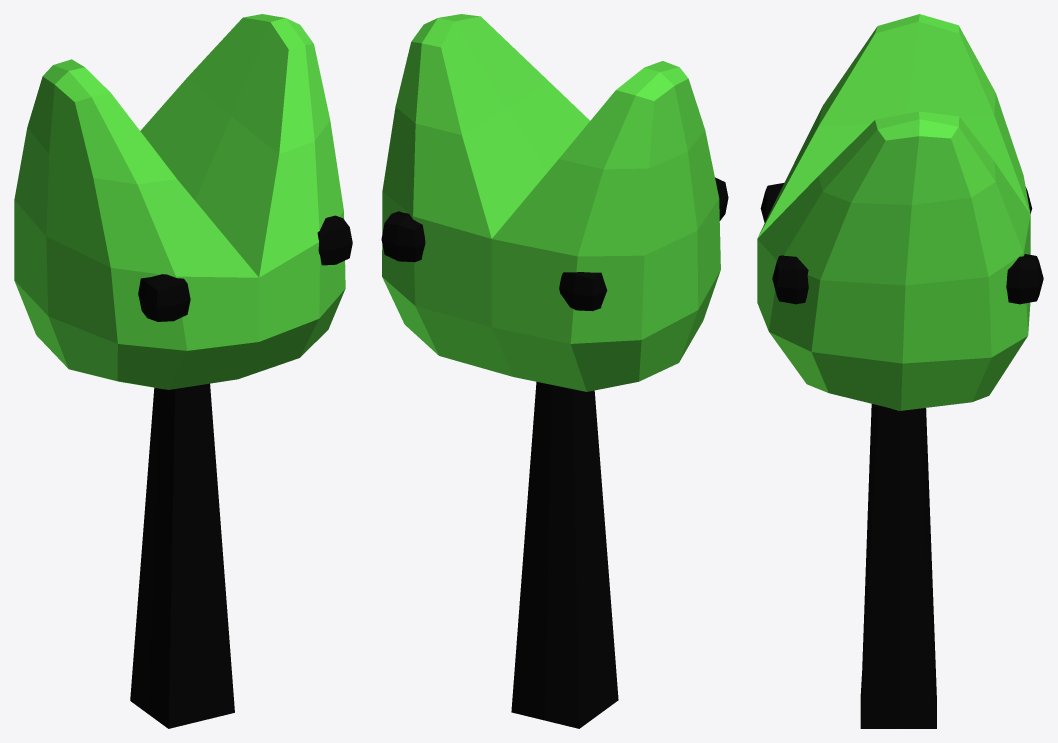
Rendered from Arbre 1.fbx.
The picture shows the model from 3 angles, left to right: view 1: azimuth 30°, elevation 25°; view 2: azimuth 150°, elevation 25°; view 3: azimuth 270°, elevation 25°; orthographic projection. The views are drawn at different scales.
Visible parts, largest first — view 1: arbre 1; view 2: arbre 1; view 3: arbre 1.
Boxes of the visible parts, x1,y1,x2,y2 form: arbre 1: (14, 14, 352, 728); arbre 1: (381, 14, 728, 728); arbre 1: (757, 14, 1043, 728).
Bounding box in the file's own units: 516 × 1166 × 467.
